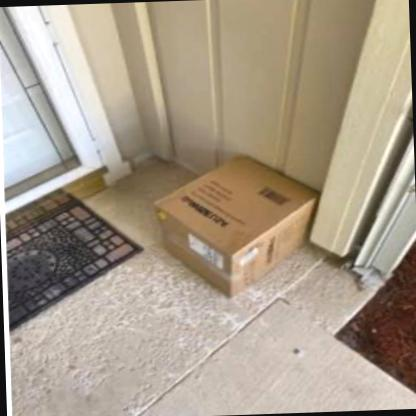box: (154, 151, 323, 299)
